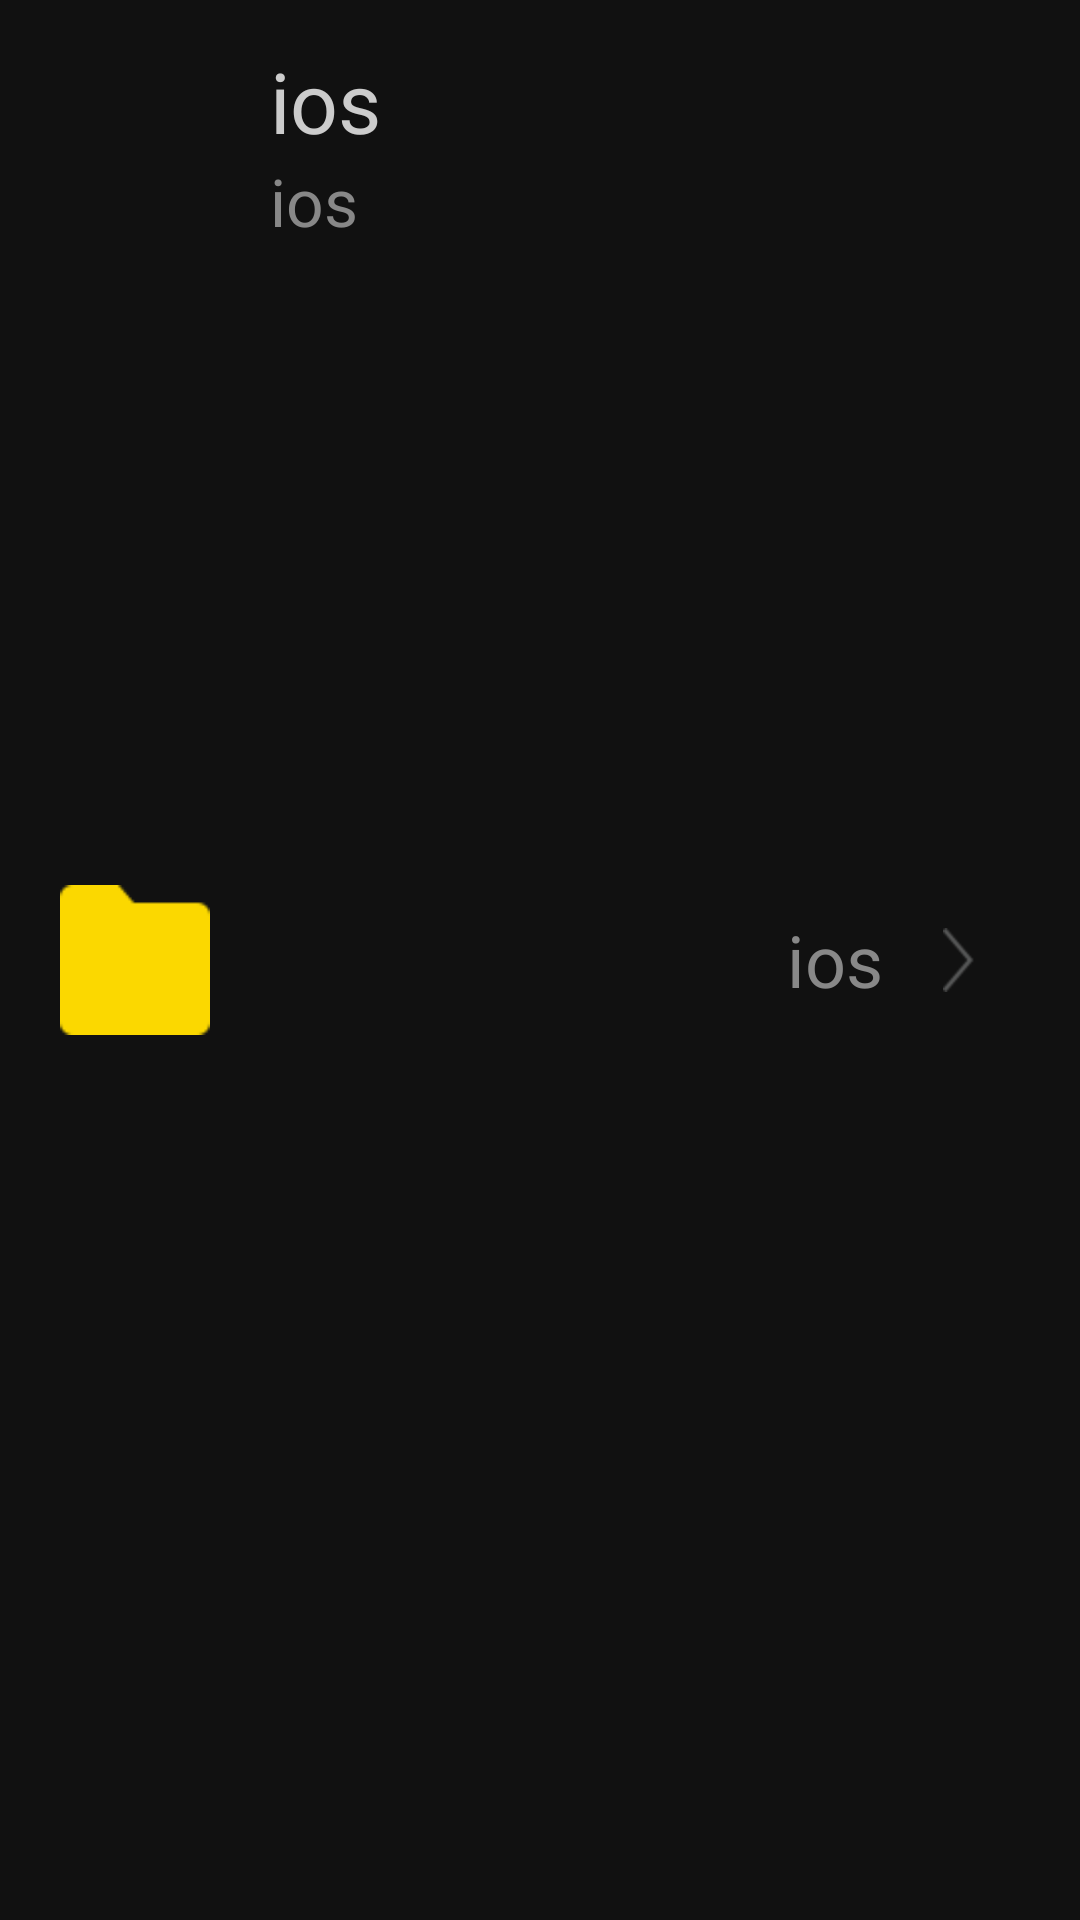

Screen size 1080×1920. Icon name, then its center in pixels as (x=x, y=y):
folder: (x=135, y=960)
